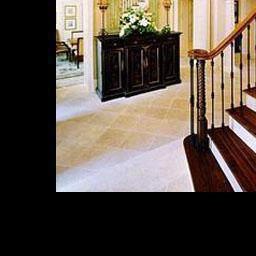Escaleras: (194, 0, 256, 190)
